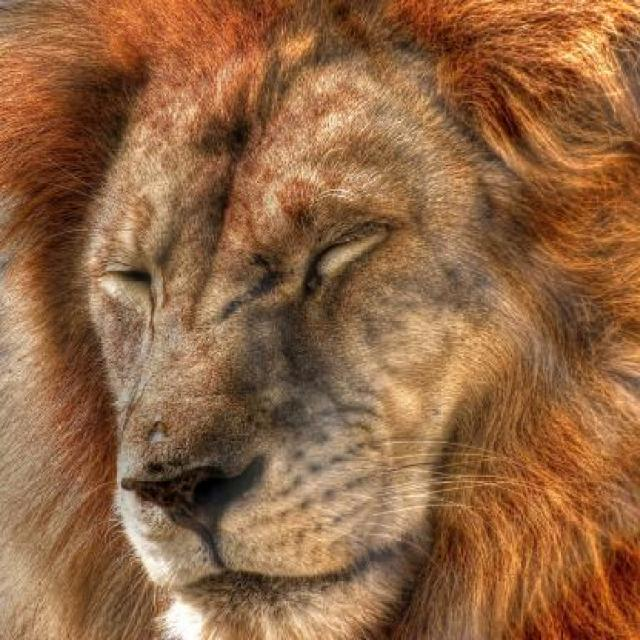Lion: (18, 12, 631, 638)
